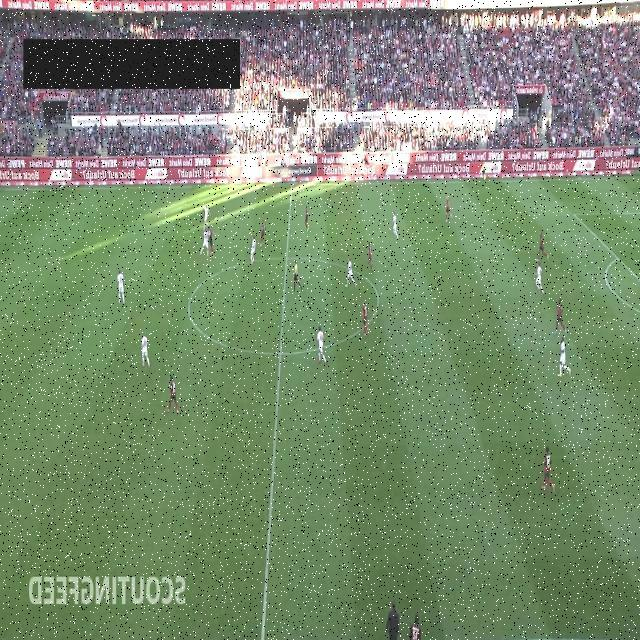Ball: (214, 215, 218, 222)
Referee: (293, 259, 302, 292), (480, 162, 486, 180)
TEAM 1: (540, 445, 556, 493), (167, 374, 180, 416), (554, 298, 566, 336), (536, 230, 549, 264), (361, 300, 369, 336), (208, 228, 216, 258), (444, 195, 452, 223), (367, 241, 374, 272), (258, 220, 266, 247), (304, 205, 310, 233)
TEAM 2: (556, 336, 572, 378), (317, 325, 327, 365), (141, 331, 151, 369), (345, 257, 357, 288), (534, 259, 544, 295), (200, 225, 210, 258), (117, 268, 125, 305), (392, 210, 398, 240), (250, 235, 256, 265), (203, 204, 210, 226)
